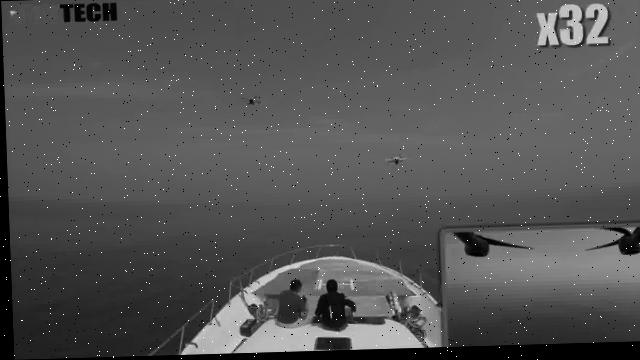drone: (233, 86, 261, 110), (379, 148, 407, 170)
